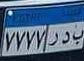7: (4, 31, 14, 52), (36, 29, 45, 50), (27, 30, 35, 52), (16, 31, 24, 51)
baa: (72, 30, 83, 46)
daal: (61, 31, 70, 46)
raa: (48, 32, 59, 47)
